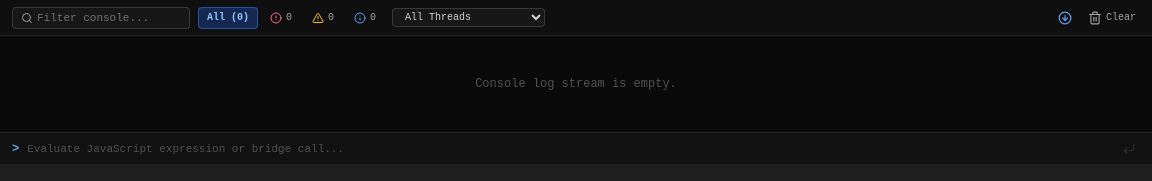
Test case: Milestone 4: Multi-Lane Debugger & Storage Suite › 2. UnifiedConsole Component › evaluates REPL command expressions in console prompt
The width and height of the screenshot is (1152, 181).
Type "2 + 3" into the field with placeholder "Evaluate JavaScript expression or bridge call...". click: (569, 148)
box: [27,140,1110,156]
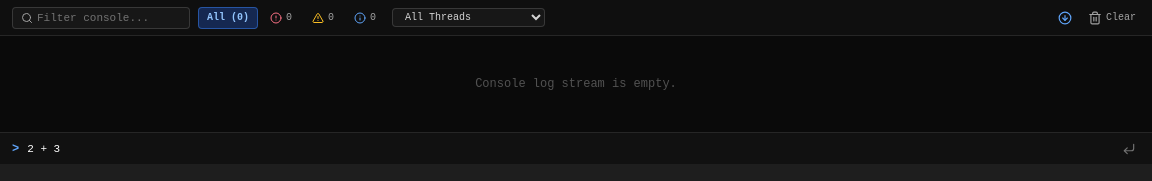
Submit the form with placeholder "Evaluate JavaScript expression", box [0,132,1151,164]
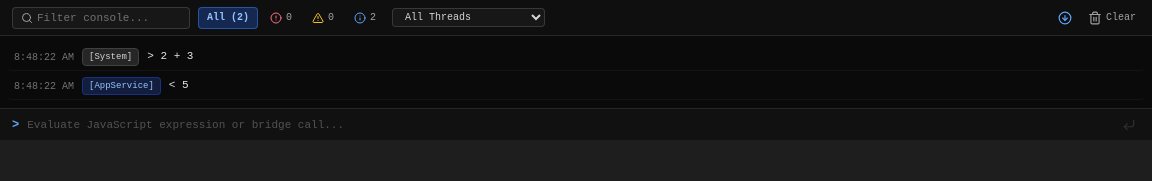
Expected: the text "> 2 + 3" is shown, [147,48,193,64]
Expected: the text "< 5" is shown, [169,77,189,93]
